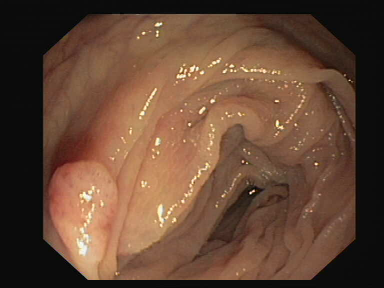polyp: (43, 154, 124, 263)
